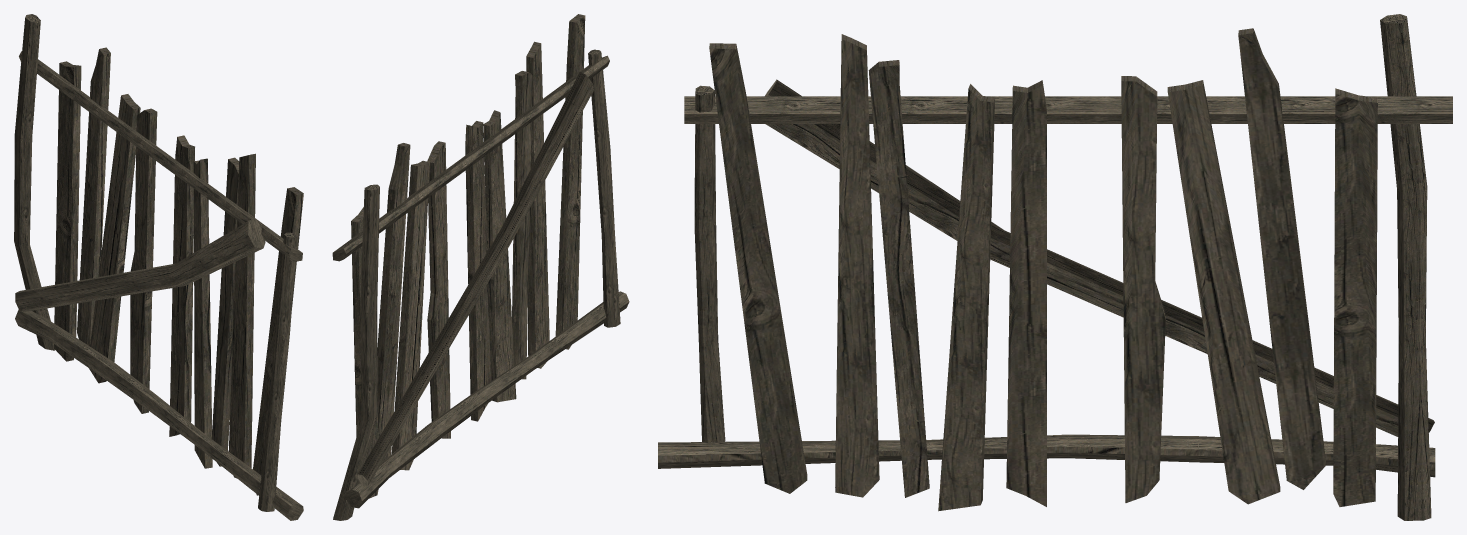
Rendered from fence_3.fbx.
The picture shows the model from 3 angles, left to right: view 1: azimuth 30°, elevation 25°; view 2: azimuth 150°, elevation 25°; view 3: azimuth 270°, elevation 25°; orthographic projection. The views are drawn at different scales.
Parts seen in each view (by area): view 1: fence3_LOD0; view 2: fence3_LOD0; view 3: fence3_LOD0.
Boxes of the visible parts, x1,y1,x2,y2 form: fence3_LOD0: [14, 14, 303, 520]; fence3_LOD0: [332, 14, 629, 520]; fence3_LOD0: [658, 14, 1452, 520].
Size of what is drawn, in the model's own units: 0.1686 by 1.27 by 1.89.
